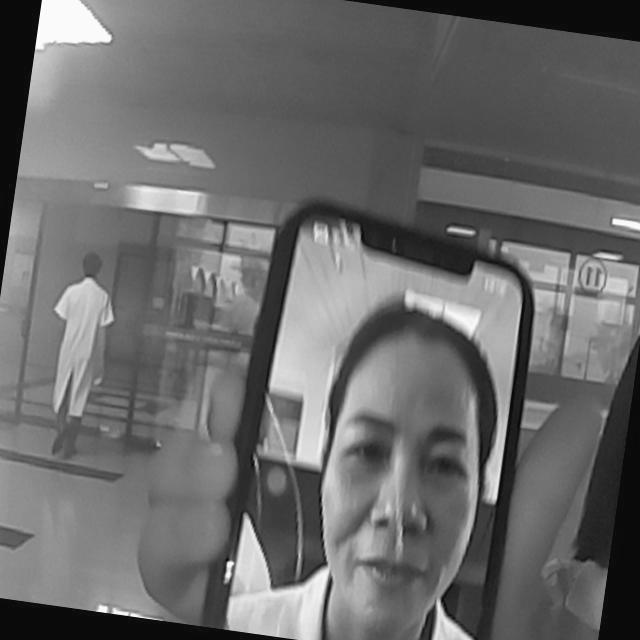fake: (199, 191, 555, 640)
